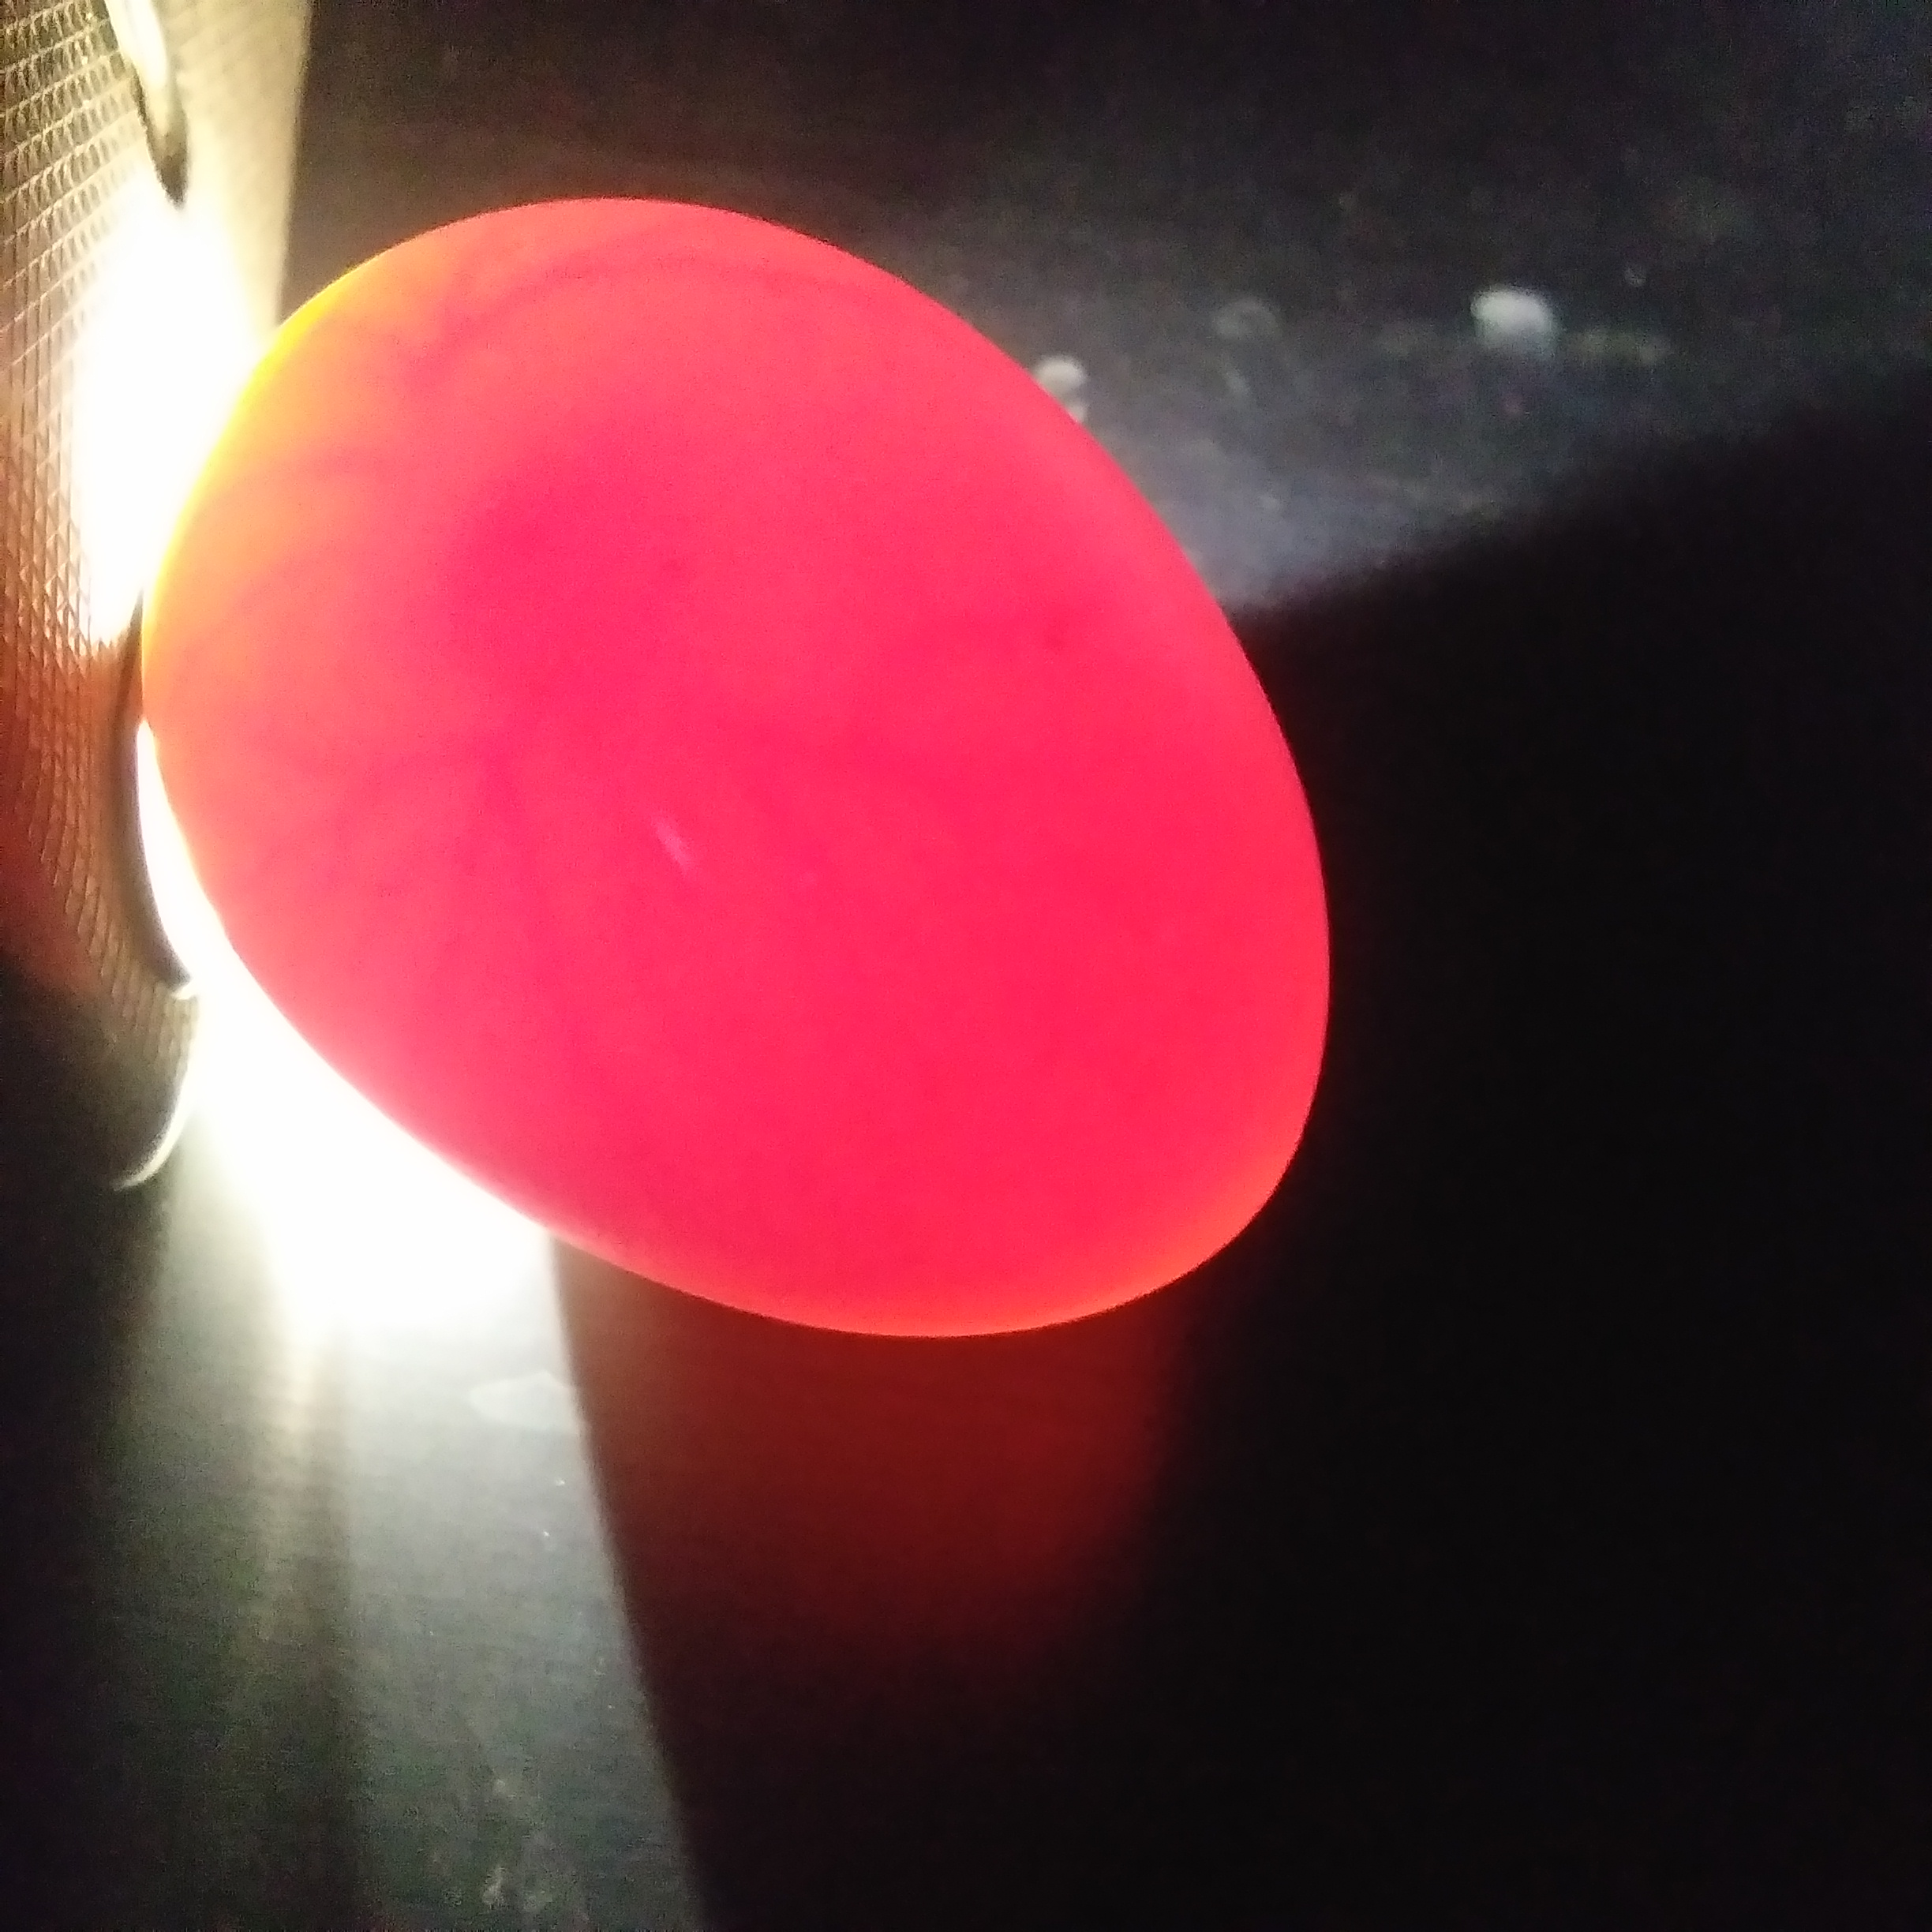bloodcell: (225, 708, 644, 954), (389, 276, 658, 513)
